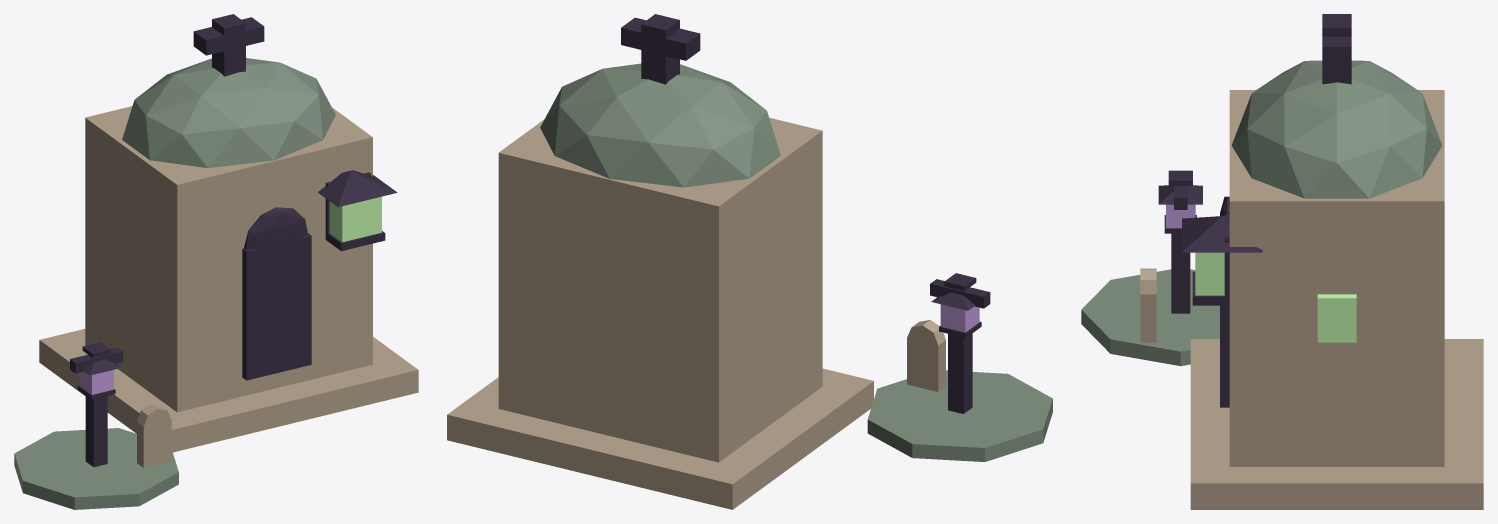
Rendered from graveyard-landmark-s2b.glb.
The picture shows the model from 3 angles, left to right: view 1: azimuth 30°, elevation 25°; view 2: azimuth 150°, elevation 25°; view 3: azimuth 270°, elevation 25°; orthographic projection. The views are drawn at different scales.
Visible parts, largest first — view 1: graveyard-landmark-s2b; view 2: graveyard-landmark-s2b; view 3: graveyard-landmark-s2b.
Boxes of the visible parts, x1,y1,x2,y2 form: graveyard-landmark-s2b: (14, 14, 418, 509); graveyard-landmark-s2b: (447, 14, 1052, 509); graveyard-landmark-s2b: (1081, 14, 1483, 509).
Bounding box in the file's own units: 1.1 × 0.94 × 0.8235.
